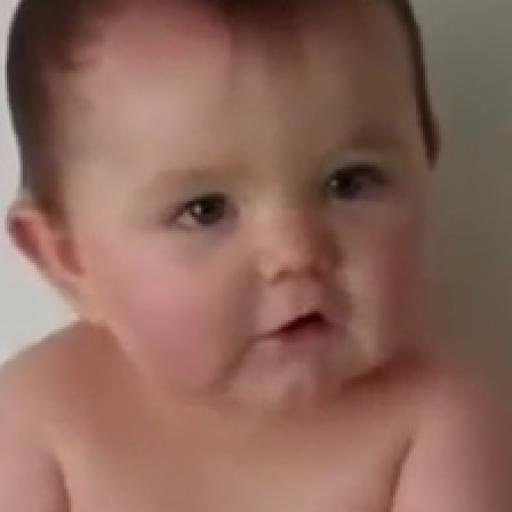Autism: (62, 3, 468, 410)
